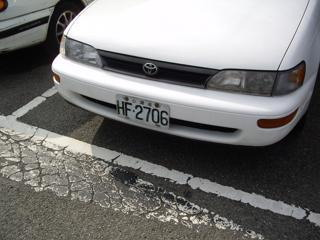plate: (115, 93, 170, 132)
